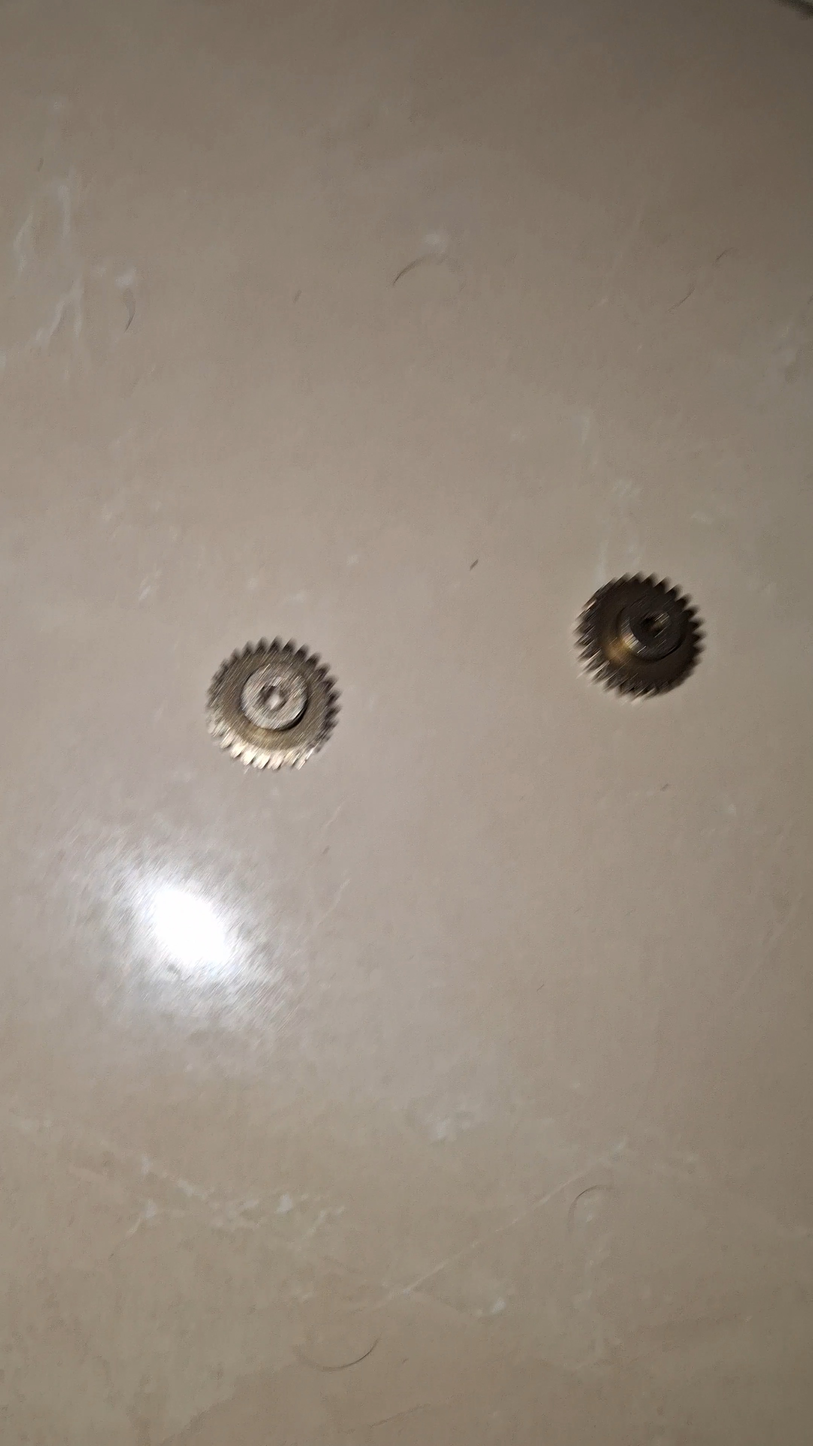spur gear: (207, 639, 338, 769), (576, 574, 702, 697)
